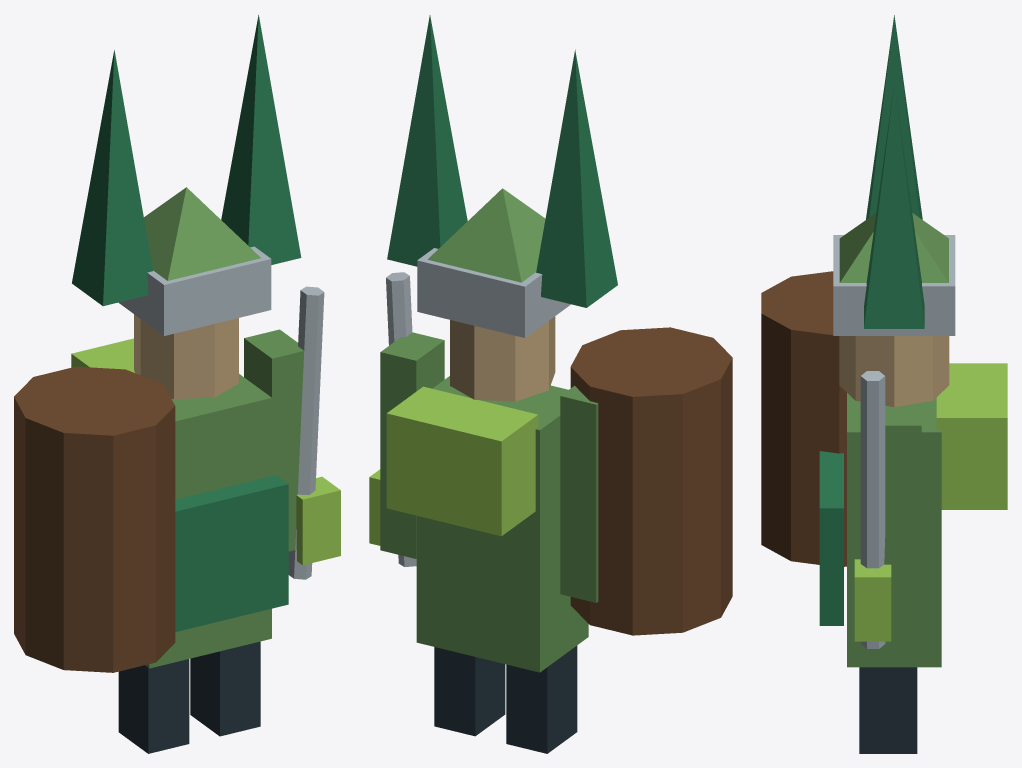
Rendered from infantry.obj.
The picture shows the model from 3 angles, left to right: view 1: azimuth 30°, elevation 25°; view 2: azimuth 150°, elevation 25°; view 3: azimuth 270°, elevation 25°; orthographic projection. The views are drawn at different scales.
Visible parts, largest first — view 1: infantry; view 2: infantry; view 3: infantry.
Boxes of the visible parts, left/top/right/bottom form: infantry: left=14, top=15, right=340, bottom=753; infantry: left=369, top=15, right=732, bottom=753; infantry: left=761, top=15, right=1007, bottom=753.
Size of the model in its own units: 1.08 by 2.21 by 0.7281.
